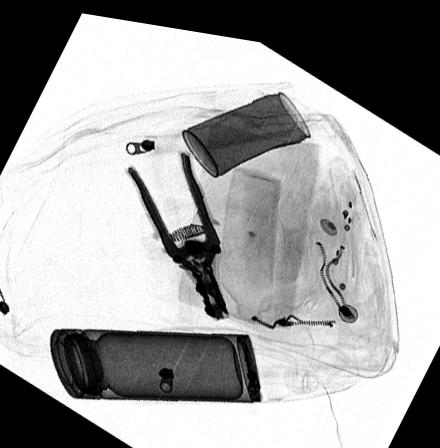Pliers: (127, 146, 229, 313)
